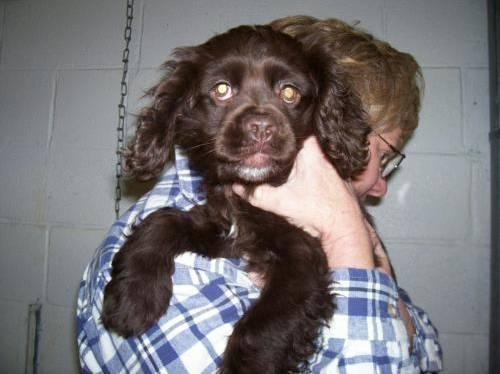dog: (103, 25, 370, 373)
